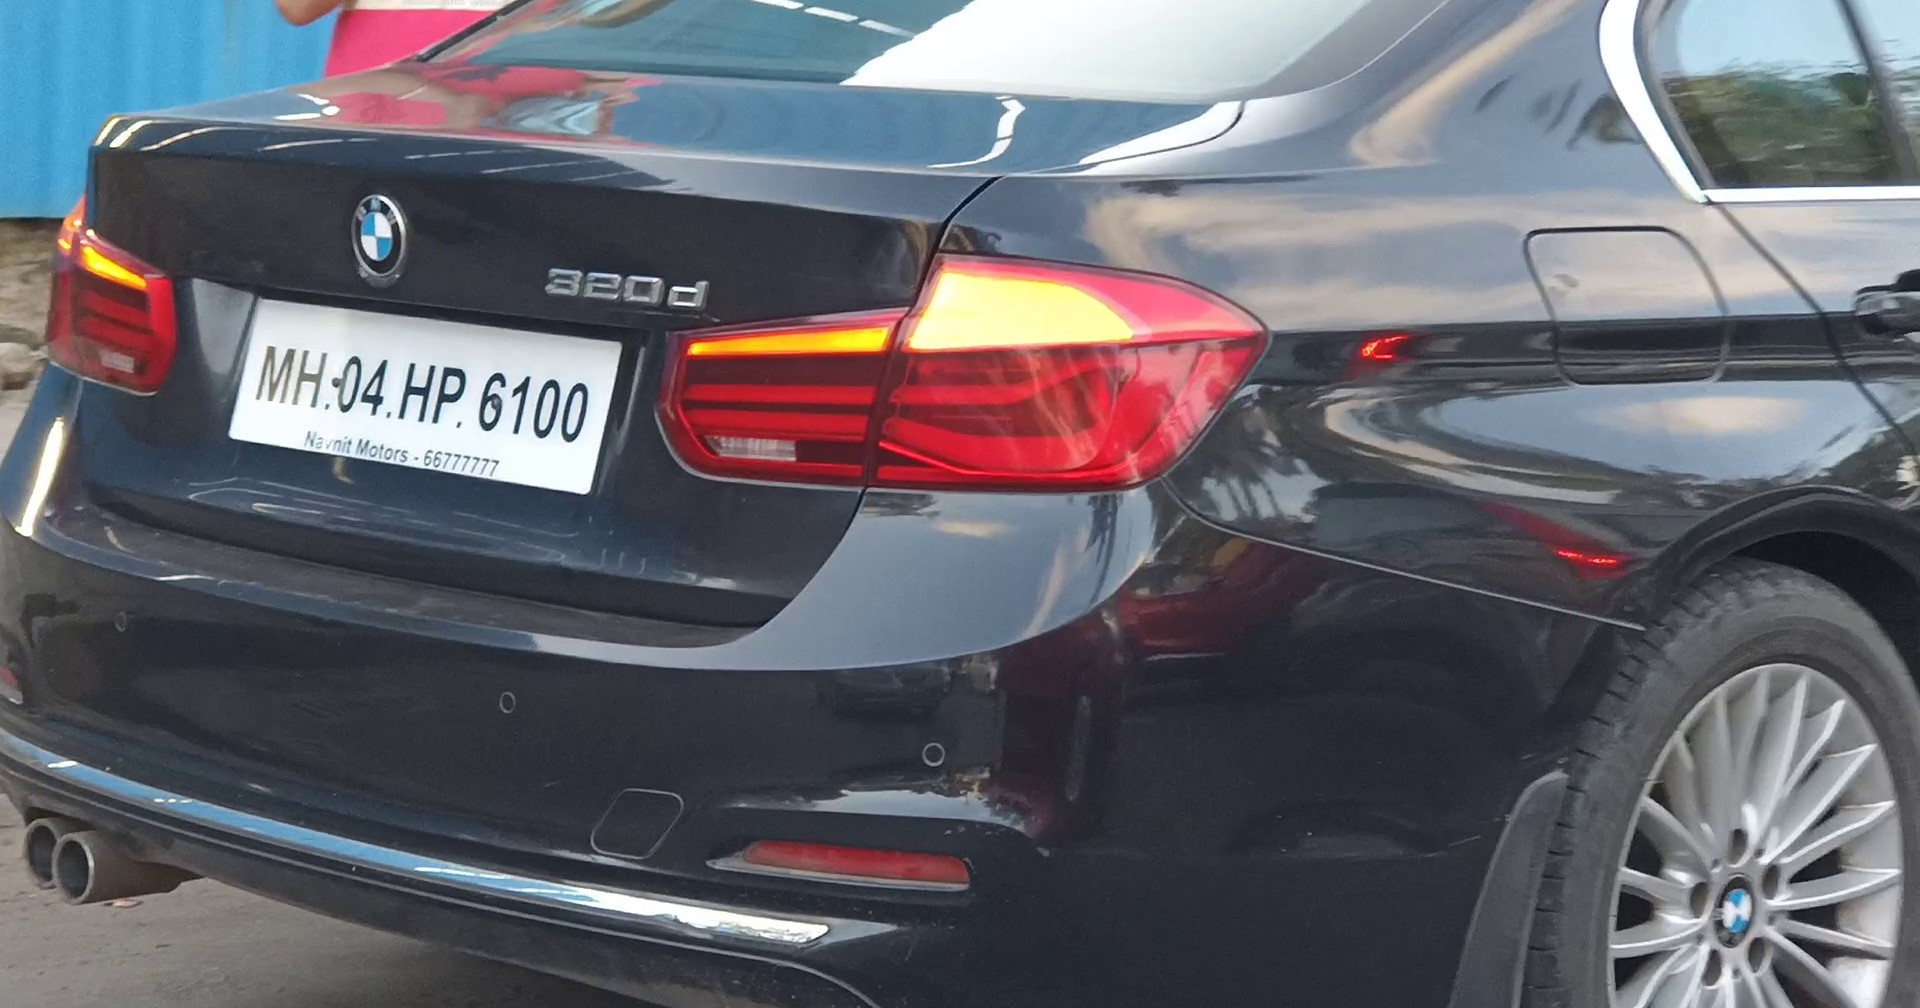MH04HP6100: (229, 296, 623, 497)
